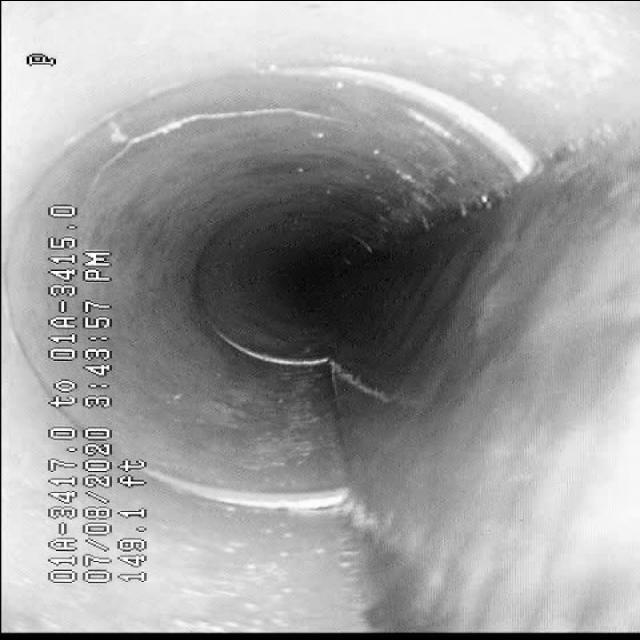Crack: (92, 93, 321, 163)
